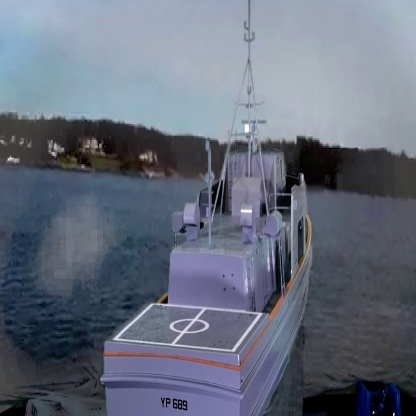YP689: (97, 0, 319, 416)
